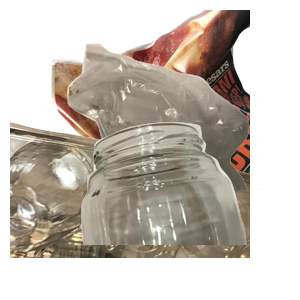glass: (74, 120, 300, 300)
paper: (49, 10, 289, 190)
plastic: (10, 120, 250, 300)
trash: (65, 41, 300, 221)
